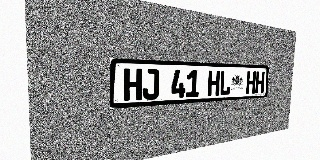1: (186, 70, 200, 97)
4: (171, 69, 186, 98)
H: (124, 68, 142, 101), (207, 70, 220, 96), (246, 71, 256, 94), (255, 71, 265, 93)
J: (142, 69, 159, 100)
L: (219, 71, 231, 96)
